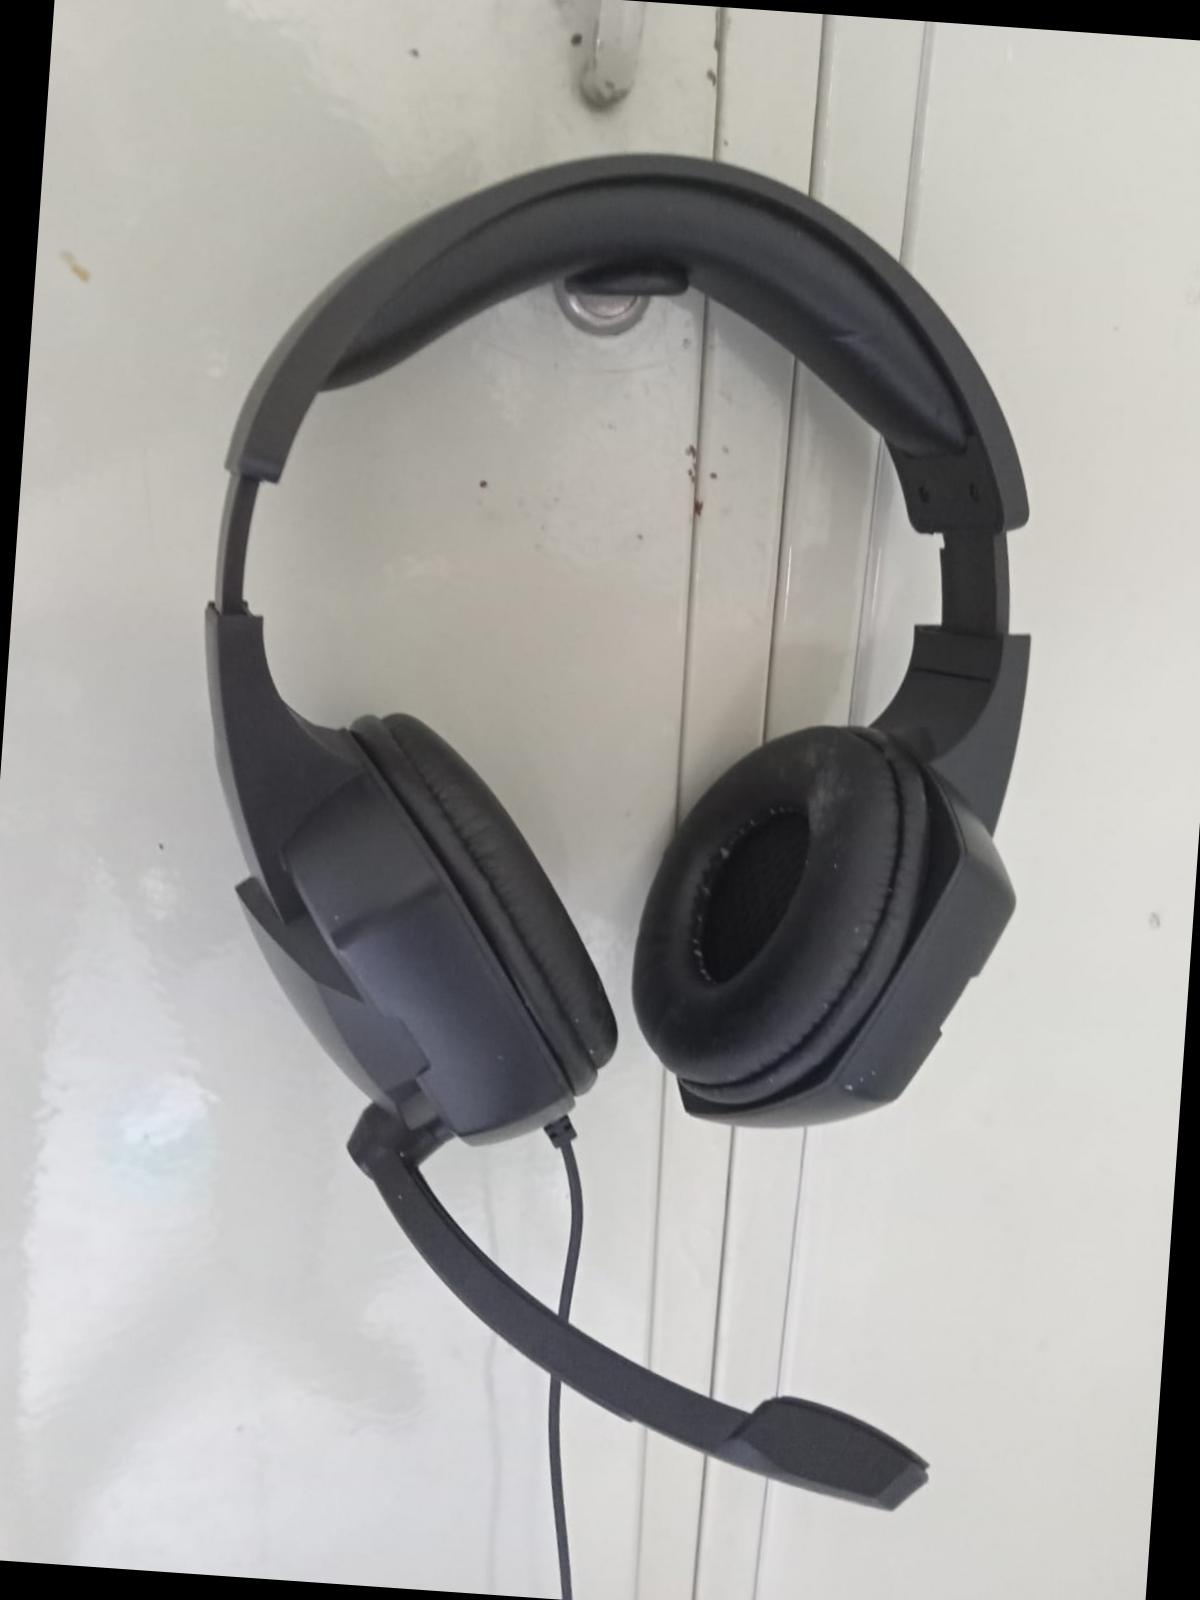Headset: (113, 97, 1074, 1523)
